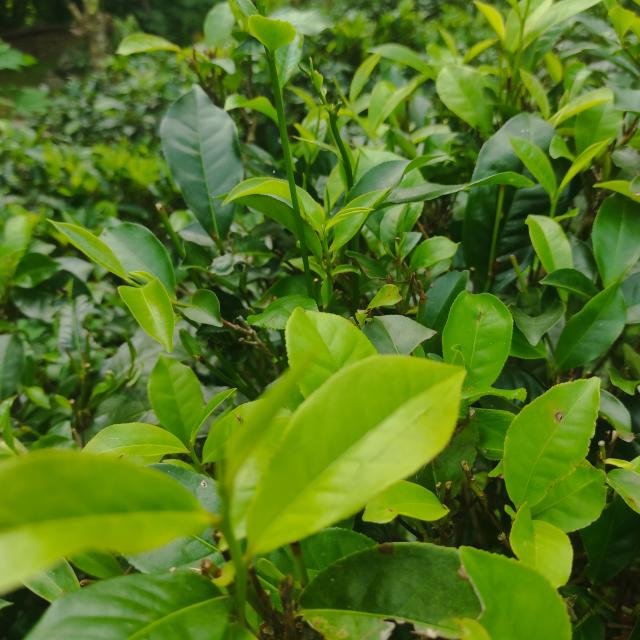unopened_leaf: (212, 328, 335, 517), (203, 416, 233, 524), (293, 56, 324, 95)
